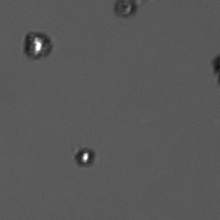Dead Cell: (113, 1, 137, 17)
Living Cell: (22, 31, 53, 60), (73, 146, 93, 166)
